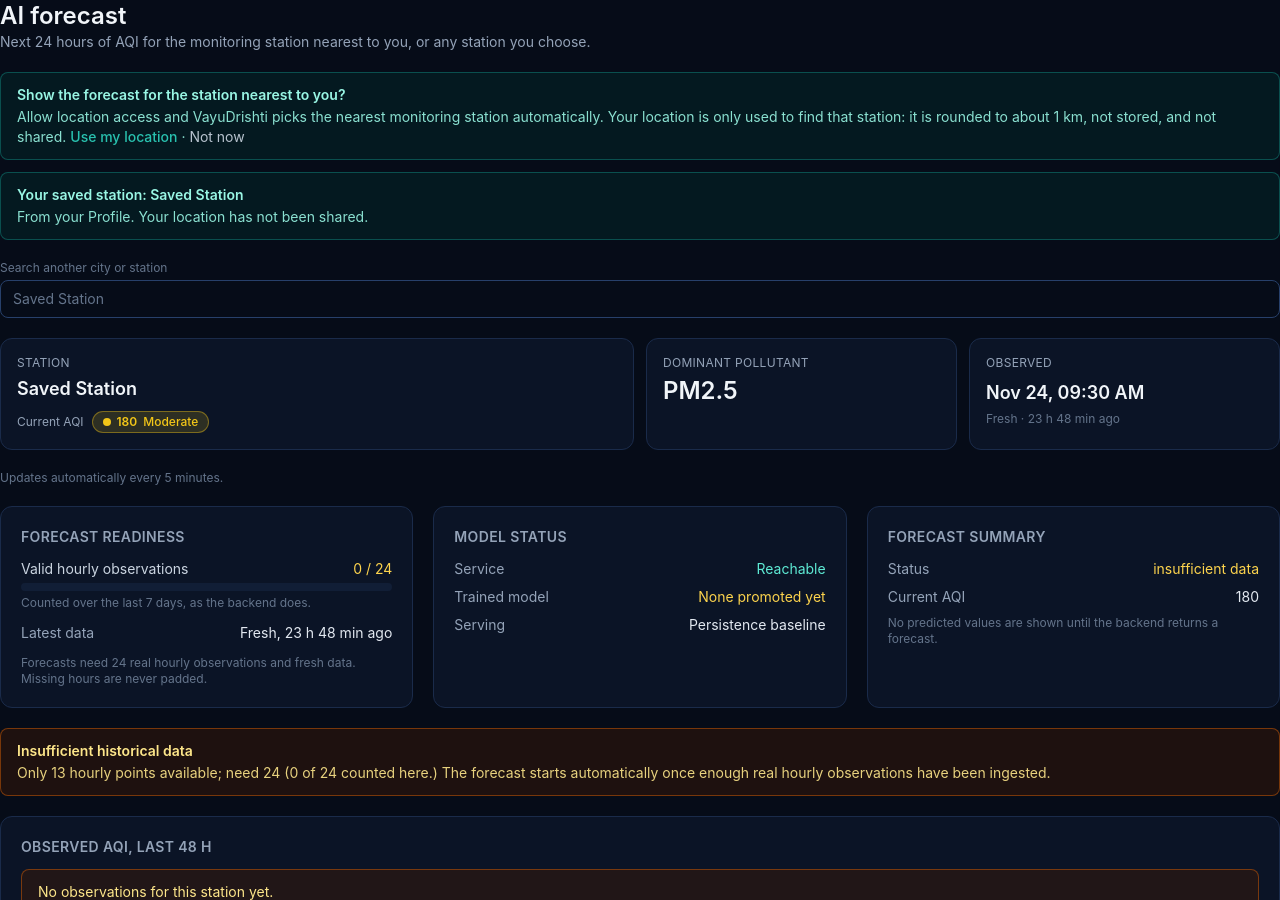
Forecast page - automatic nearest station › permission not decided: explains first and only asks when the user clicks
Check: the text "Show the forecast for the station nearest to you?" is shown, box [17, 86, 346, 103]
Check: the text "rounded to about 1 km, not stored, and not shared" is shown, box [17, 108, 1216, 145]
Click the button "Use my location": click(124, 137) [70, 127, 178, 147]
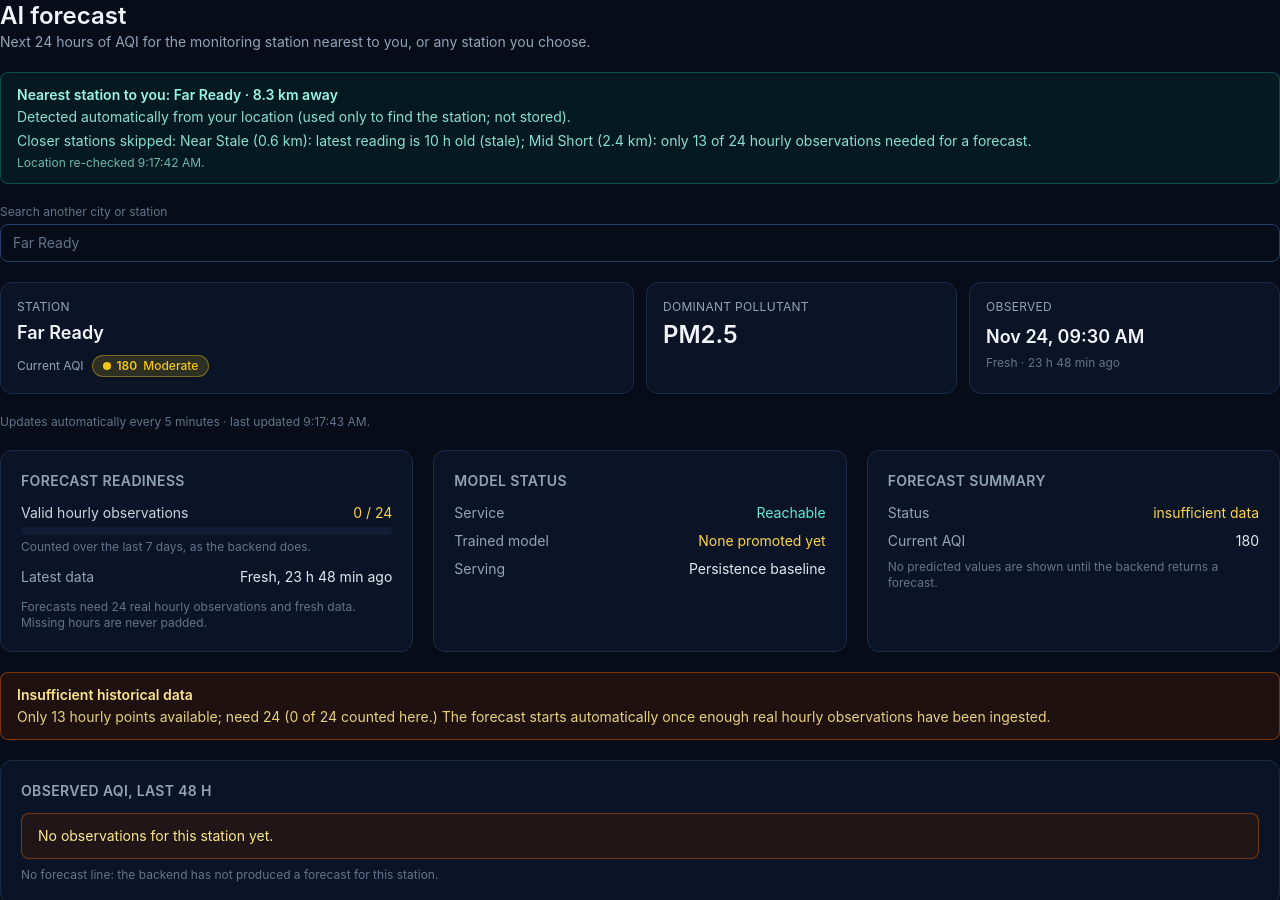
Check: the text "Nearest station to you: Far Ready · 8.3 km away" is shown, box [17, 86, 338, 103]
